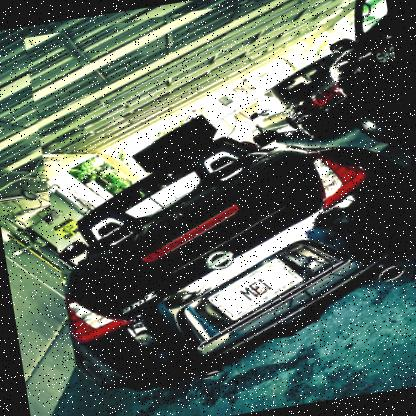Car: (23, 0, 415, 396)
